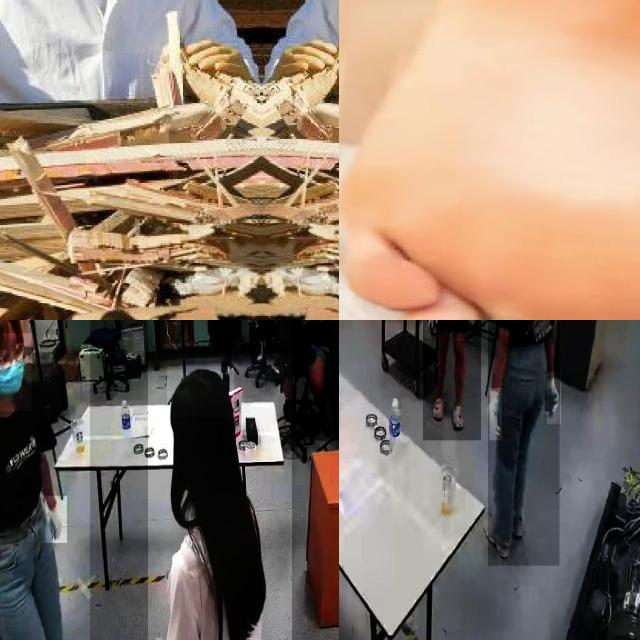Barefoots: (339, 0, 640, 320)
face_mask: (0, 333, 31, 411)
glasses: (0, 338, 25, 371)
hand_glove: (269, 36, 339, 87), (177, 34, 254, 80), (45, 496, 67, 543), (547, 372, 561, 425), (490, 388, 502, 441), (429, 320, 444, 340), (460, 320, 479, 329)
head_nohelmet: (167, 366, 235, 418)
person: (147, 353, 292, 640), (0, 0, 238, 142), (0, 320, 90, 640), (488, 320, 560, 566), (422, 320, 481, 441), (291, 320, 339, 441)
shoes: (481, 512, 516, 566)
